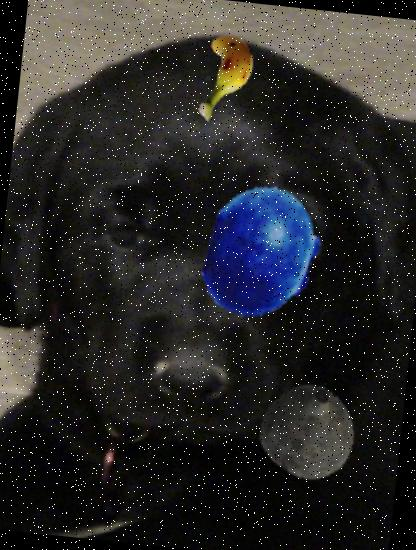Banana: (178, 32, 264, 118)
Beetroot: (249, 361, 374, 486)
Huckleberry: (188, 179, 337, 328)
